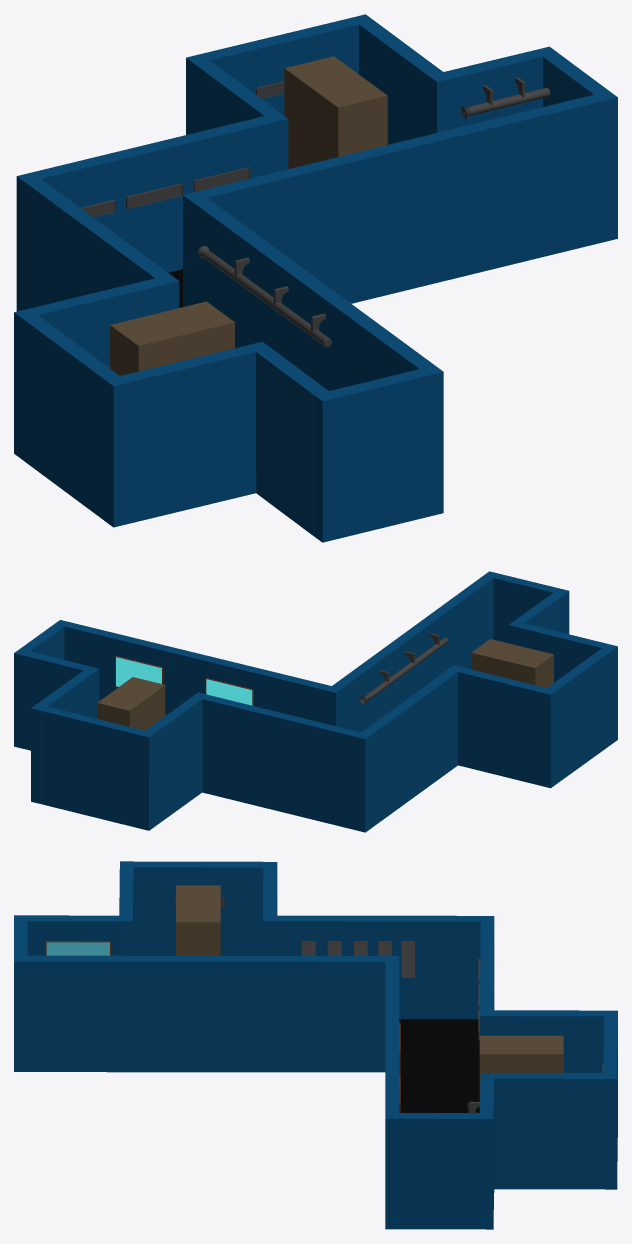
File: Nivel 2.fbx
3 views of the same model, one above another, from view 1: azimuth 30°, elevation 25°; view 2: azimuth 150°, elevation 25°; view 3: azimuth 270°, elevation 25° (orthographic). The views are drawn at different scales.
Parts seen in each view (by area): view 1: Pared 1, Pared 1.014, Pared 1.016, Pared 1.004, Pared 1.010, Pared 1.013, Pared 1.011, Pared 1.015, Pared Gris, Pared 1.012, Pared Gris 2, Pared 1.008 (+6 smaller); view 2: Pared 1.010, Pared 1, Pared 1.012, Pared 1.008, Pared 1.004, Pared 1.011, Pared 1.009, Pared 1.013, Pared 1.014, Pared Gris 2, Pared 1.006, Pared 1.016 (+7 smaller); view 3: Pared 1.004, Pared 1.007, Pared 1.011, Pared 1.005, Pared 1.013, Piso Negro, Pared 1.009, Pared Gris, Pared Gris 2, Pared 1.015, Pared 1, Pared 1.016 (+6 smaller).
Part boxes in pixels (x1,y1,x2,y2): Pared 1: (183,94,602,306); Pared 1.014: (104,341,270,527); Pared 1.016: (314,365,443,542); Pared 1.004: (191,197,434,390); Pared 1.010: (16,112,288,311); Pared 1.013: (22,315,119,520); Pared 1.011: (25,179,179,311); Pared 1.015: (256,348,328,535); Pared Gris: (284,56,387,168); Pared 1.012: (14,278,163,459); Pared Gris 2: (110,301,234,375); Pared 1.008: (201,18,358,115); Pared 1.010: (193,692,371,832); Pared 1: (64,622,341,727); Pared 1.012: (458,668,556,788); Pared 1.008: (41,706,144,828); Pared 1.004: (332,575,493,732); Pared 1.011: (361,665,463,827); Pared 1.009: (139,696,202,830); Pared 1.013: (547,648,611,783); Pared 1.014: (508,621,617,743); Pared Gris 2: (471,639,553,687); Pared 1.006: (24,651,99,750); Pared 1.016: (484,571,569,643); Pared 1.004: (27,955,385,1072); Pared 1.007: (494,1073,617,1189); Pared 1.011: (263,915,480,1019); Pared 1.005: (385,1113,493,1229); Pared 1.013: (133,861,263,955); Piso Negro: (399,1019,479,1112); Pared 1.009: (493,1010,617,1072); Pared Gris: (479,1035,563,1112); Pared Gris 2: (176,885,220,955); Pared 1.015: (27,915,119,955); Pared 1: (385,956,399,1112); Pared 1.016: (14,915,27,1071).
Size of the model in its own units: 14987 by 3000 by 14857.
